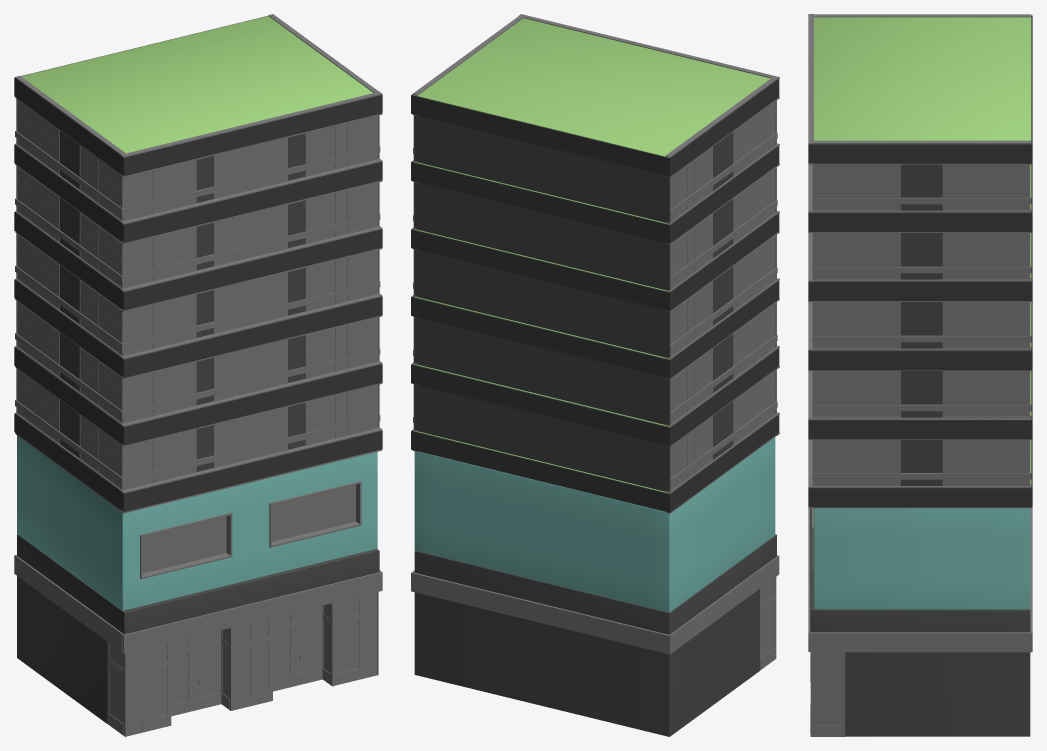
The model's file is SM_building_standard_05.fbx.
3 views of the same model, side by side, from view 1: azimuth 30°, elevation 25°; view 2: azimuth 150°, elevation 25°; view 3: azimuth 270°, elevation 25° (orthographic). The views are drawn at different scales.
Parts seen in each view (by area): view 1: Box202; view 2: Box202; view 3: Box202.
Part boxes in pixels (x1,y1,x2,y2): Box202: (14,14,382,736); Box202: (411,14,779,736); Box202: (808,14,1032,736).
Size of the model in its own units: 436 by 934 by 319.
